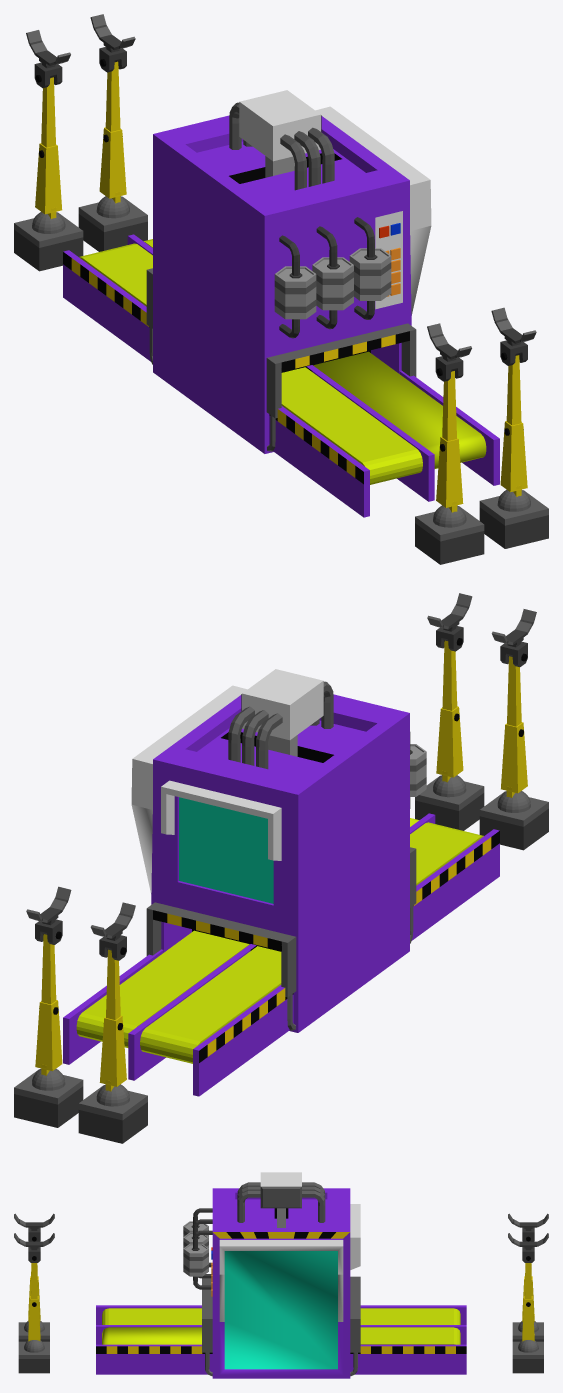
File: NewBuildMachineUpdate.fbx
The picture shows the model from 3 angles, top to bottom: view 1: azimuth 30°, elevation 25°; view 2: azimuth 150°, elevation 25°; view 3: azimuth 270°, elevation 25°; orthographic projection. The views are drawn at different scales.
Visible parts, largest first — view 1: Build Machine, Build MachineBelt2, Build Machine Head, Build MachineBelt1, Build Machine Door, Build Machine Arm1.5, Cube.013, Cube.014, Cube.015, Build MachineBelt4, Cube.030, Cube.016 (+10 smaller); view 2: Build Machine, Build MachineBelt4, Build Machine Head, Build MachineBelt3, Build Machine Door, Cube.014, Cube.015, Build Machine Arm1.5, Cube.013, Build MachineBelt2, Cube.016, Build Machine Arm1.1 (+10 smaller); view 3: Build Machine, Build Machine Door, Build Machine Head, Build MachineBelt3, Build MachineBelt1, Build MachineBelt4, Build MachineBelt2, Cube.015, Cube.013, Cube.016, Cube.030, Build Machine Arm1.5 (+5 smaller).
Boxes of the visible parts, box(x1,y1,x2,y2) form: Build Machine: box(63, 115, 499, 517); Build MachineBelt2: box(281, 367, 422, 484); Build Machine Head: box(229, 90, 334, 190); Build MachineBelt1: box(313, 351, 486, 468); Build Machine Door: box(315, 106, 431, 325); Build Machine Arm1.5: box(415, 505, 484, 564); Cube.013: box(479, 489, 548, 548); Cube.014: box(14, 212, 83, 271); Cube.015: box(78, 196, 147, 251); Build MachineBelt4: box(79, 243, 152, 306); Cube.030: box(99, 127, 126, 203); Cube.016: box(500, 421, 527, 496); Build Machine: box(63, 694, 499, 1096); Build MachineBelt4: box(140, 946, 281, 1063); Build Machine Head: box(228, 669, 333, 769); Build MachineBelt3: box(76, 930, 249, 1047); Build Machine Door: box(131, 685, 247, 904); Cube.014: box(78, 1084, 147, 1143); Cube.015: box(14, 1068, 83, 1127); Build Machine Arm1.5: box(479, 791, 548, 850); Cube.013: box(415, 775, 484, 830); Build MachineBelt2: box(410, 822, 483, 885); Cube.016: box(436, 706, 463, 782); Build Machine Arm1.1: box(501, 722, 527, 797); Build Machine: box(96, 1188, 466, 1378); Build Machine Door: box(219, 1238, 343, 1374); Build Machine Head: box(237, 1172, 325, 1227); Build MachineBelt3: box(360, 1327, 460, 1344); Build MachineBelt1: box(102, 1327, 201, 1344); Build MachineBelt4: box(360, 1308, 460, 1324); Build MachineBelt2: box(102, 1308, 201, 1324); Cube.015: box(512, 1340, 543, 1373); Cube.013: box(18, 1340, 49, 1373); Cube.016: box(28, 1296, 40, 1341); Cube.030: box(522, 1296, 534, 1341); Build Machine Arm1.5: box(18, 1321, 49, 1341).
Size of the model in its own units: 356 by 1553 by 568.
